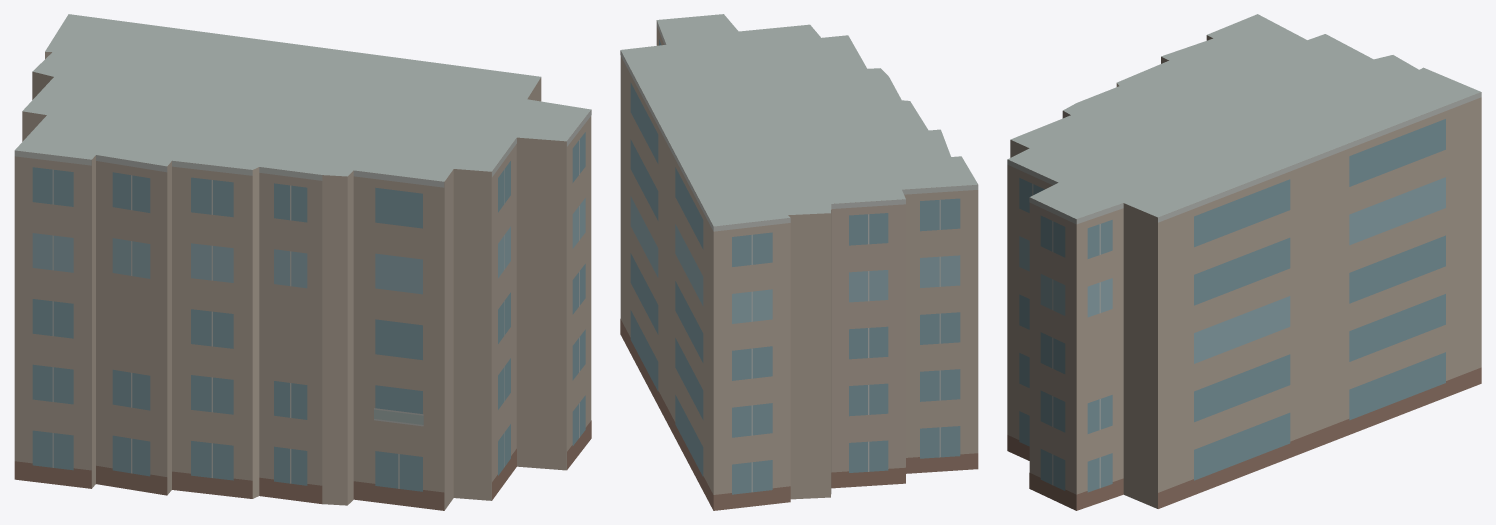
The model's file is survey-upis-32849796.glb.
3 views of the same model, side by side, from view 1: azimuth 30°, elevation 25°; view 2: azimuth 150°, elevation 25°; view 3: azimuth 270°, elevation 25° (orthographic). The views are drawn at different scales.
Visible parts, largest first — view 1: survey-upis-32849796.tmp; view 2: survey-upis-32849796.tmp; view 3: survey-upis-32849796.tmp.
Part boxes in pixels (bbox=[...]): survey-upis-32849796.tmp: bbox=[14, 14, 591, 510]; survey-upis-32849796.tmp: bbox=[620, 14, 978, 510]; survey-upis-32849796.tmp: bbox=[1007, 14, 1481, 510].
Bounding box in the file's own units: 20.45 × 13.55 × 19.97.
